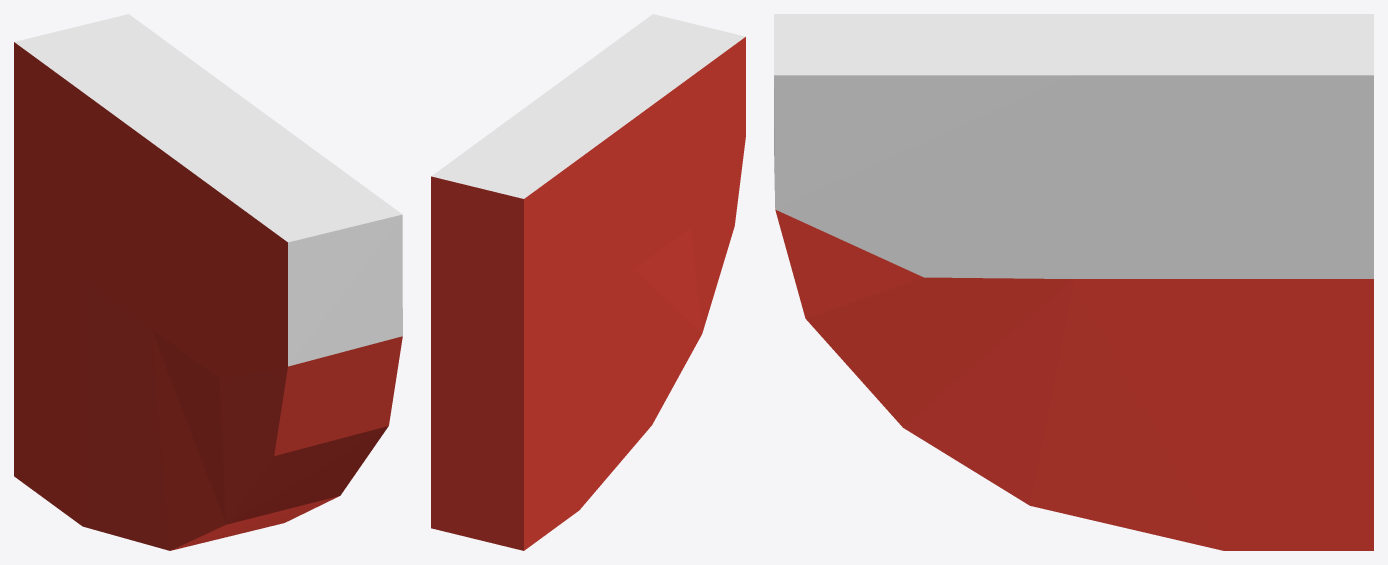
The model's file is group790674077_lev3.glb.
The picture shows the model from 3 angles, left to right: view 1: azimuth 30°, elevation 25°; view 2: azimuth 150°, elevation 25°; view 3: azimuth 270°, elevation 25°; orthographic projection. The views are drawn at different scales.
Visible parts, largest first — view 1: group790674077_lev3; view 2: group790674077_lev3; view 3: group790674077_lev3.
Boxes of the visible parts, bbox=[...] form: group790674077_lev3: bbox=[14, 14, 402, 550]; group790674077_lev3: bbox=[431, 14, 745, 550]; group790674077_lev3: bbox=[774, 14, 1373, 550].
Bounding box in the file's own units: 0.2204 × 0.7666 × 0.8761.
